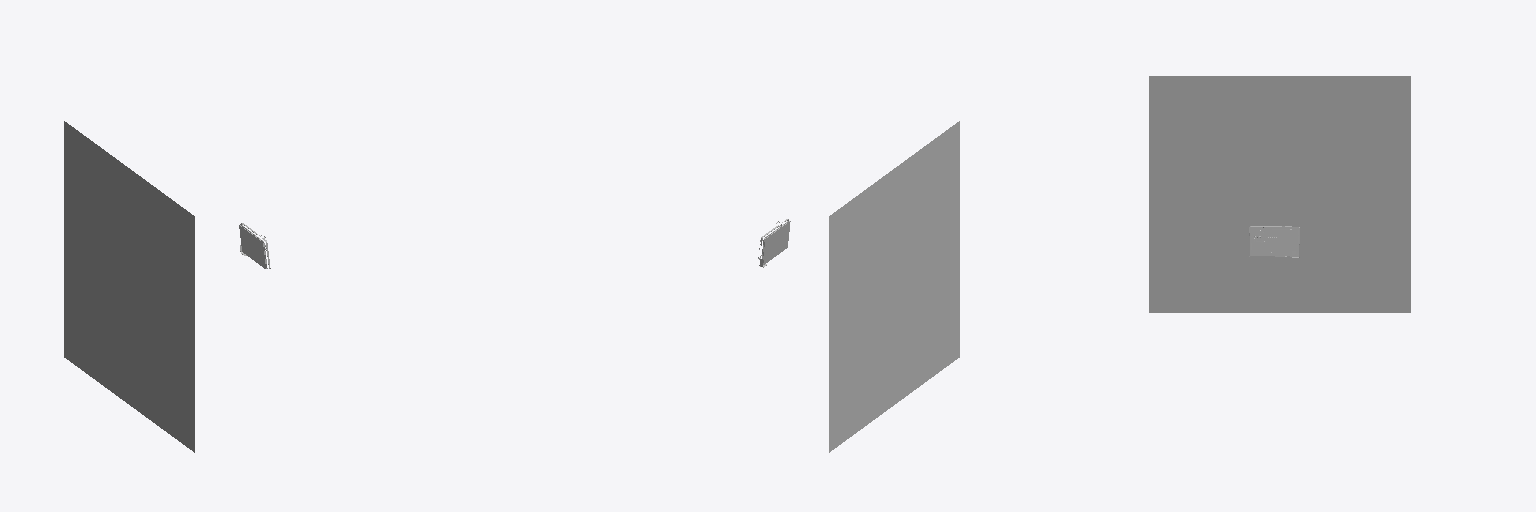
The model's file is stellar-verified-member.obj.
The picture shows the model from 3 angles: view 1: azimuth 30°, elevation 25°; view 2: azimuth 150°, elevation 25°; view 3: azimuth 270°, elevation 25°; orthographic projection.
Visible parts, largest first — view 1: Plane.005, Plane.004; view 2: Plane.005, Plane.004; view 3: Plane.005, Plane.002.
Boxes of the visible parts, box(x1,y1,x2,y2) form: Plane.005: box(64, 121, 194, 452); Plane.004: box(239, 225, 266, 268); Plane.005: box(829, 121, 959, 452); Plane.004: box(763, 221, 790, 264); Plane.005: box(1149, 76, 1410, 312); Plane.002: box(1250, 226, 1299, 256).
Bounding box in the file's own units: 38.21 × 34.18 × 34.18.